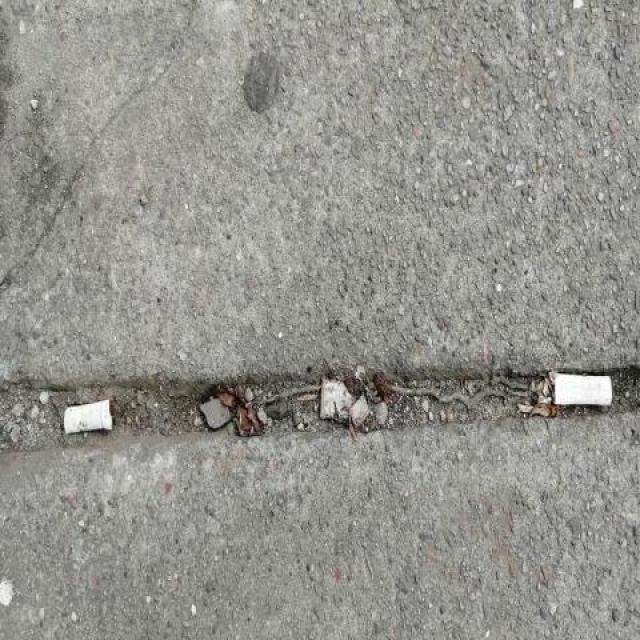non-organic waste: (547, 366, 617, 411), (60, 395, 120, 438)
